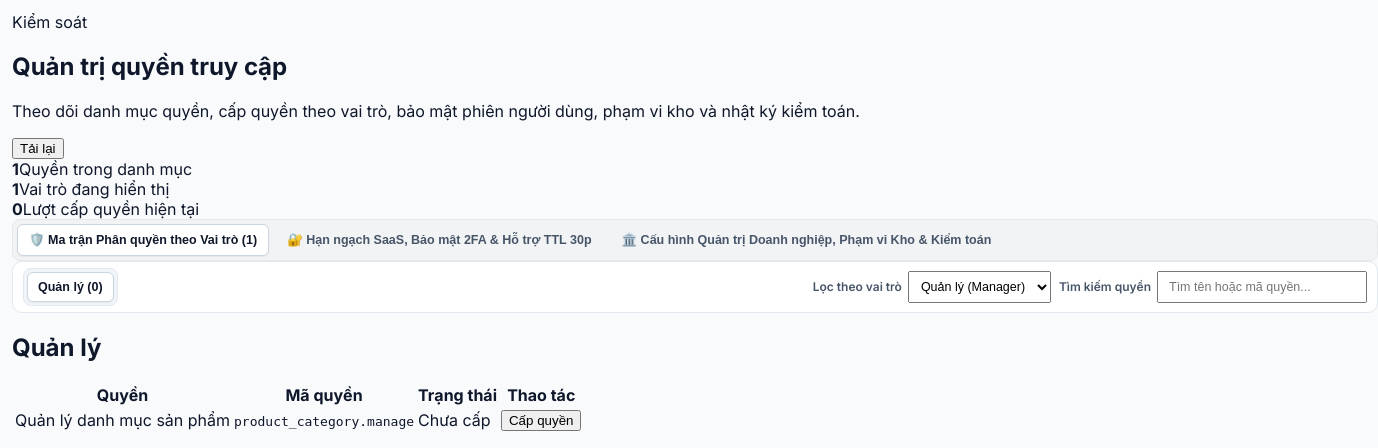
it: quản trị quyền truy cập › 409 xóa grants cũ và không hiển thị lỗi kỹ thuật
Click the button "Cấp quyền" at [541, 420], box [501,410,582,431]
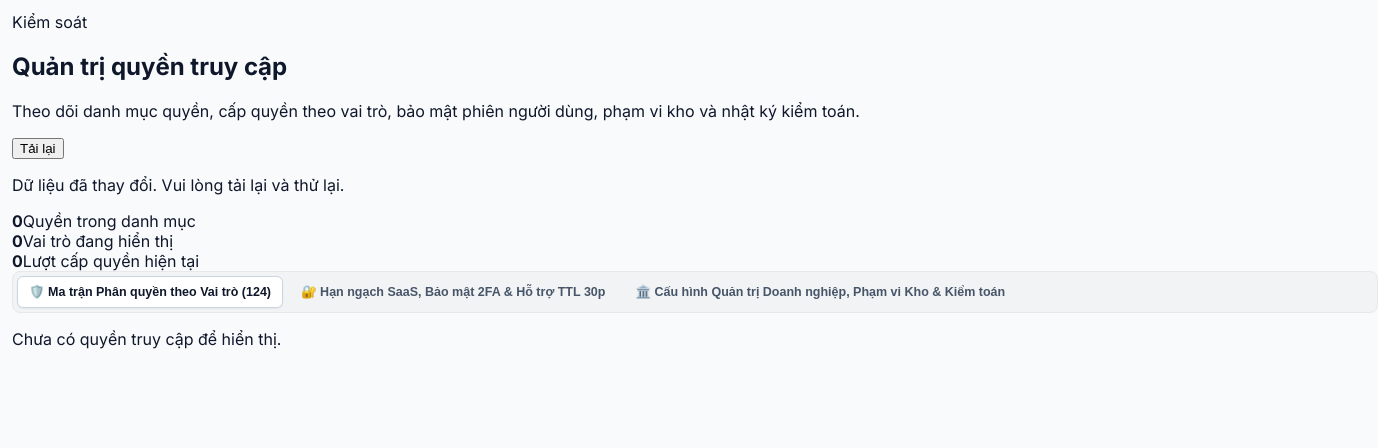
Expected: the message reads "Dữ liệu đã thay đổi. Vui lòng tải lại và thử lại.", [12,175,344,195]
